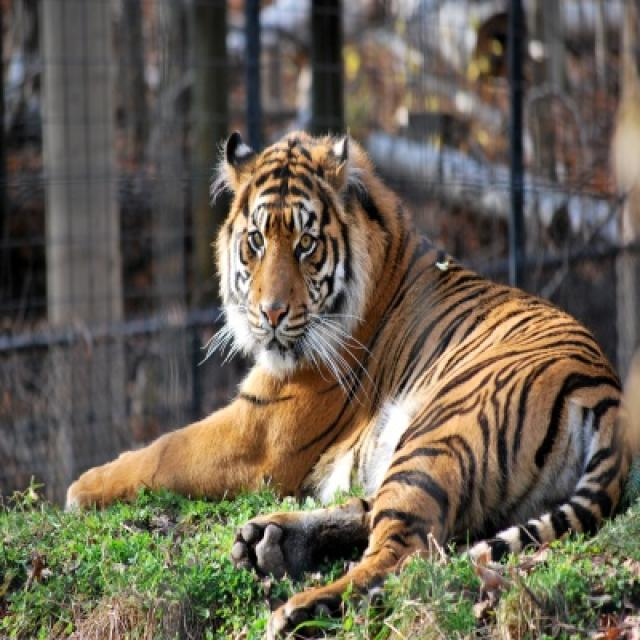Tiger: (76, 132, 626, 631)
